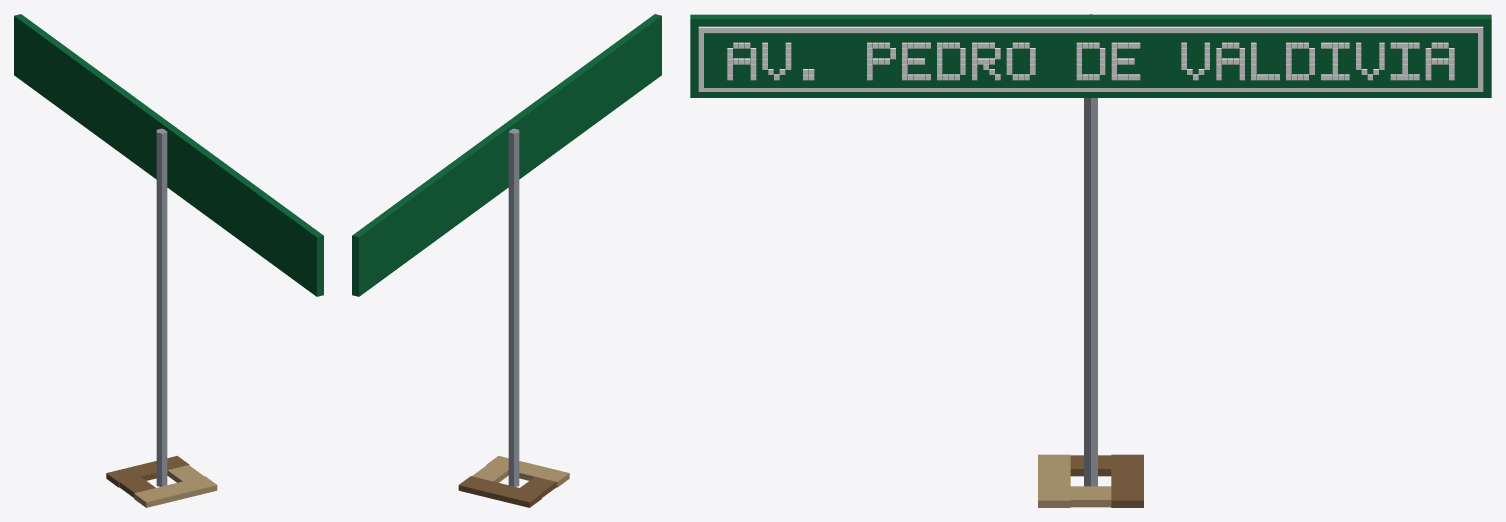
File: letrero_calle_pedro_valdivia.obj
The picture shows the model from 3 angles, left to right: view 1: azimuth 30°, elevation 25°; view 2: azimuth 150°, elevation 25°; view 3: azimuth 270°, elevation 25°; orthographic projection. The views are drawn at different scales.
Visible parts, largest first — view 1: letrero_calle_pedro_valdivia; view 2: letrero_calle_pedro_valdivia; view 3: letrero_calle_pedro_valdivia.
Boxes of the visible parts, x1,y1,x2,y2 form: letrero_calle_pedro_valdivia: (14,14,323,507); letrero_calle_pedro_valdivia: (352,14,661,507); letrero_calle_pedro_valdivia: (690,14,1491,507).
Bounding box in the file's own units: 0.8 × 3.84 × 5.9.
